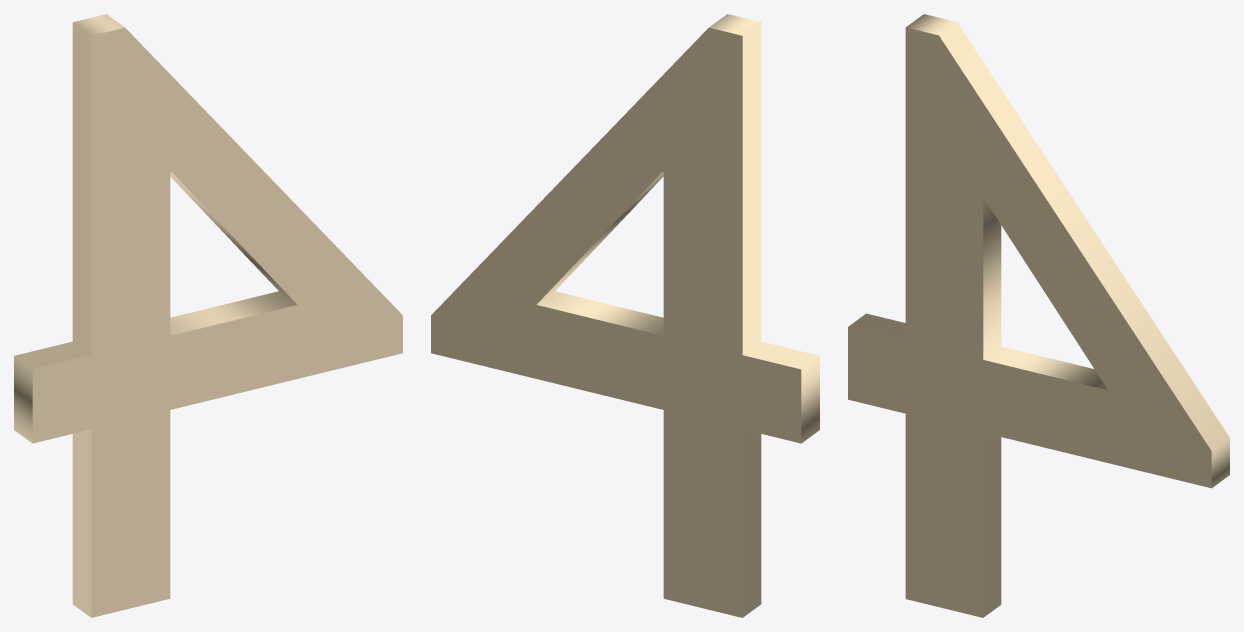
3 renders of one model, left to right at view 1: azimuth 30°, elevation 25°; view 2: azimuth 150°, elevation 25°; view 3: azimuth 330°, elevation 25°, orthographic.
Visible parts, largest first — view 1: テキスト; view 2: テキスト; view 3: テキスト.
Part boxes in pixels (<box>): テキスト: <box>14,14,402,617</box>; テキスト: <box>431,14,819,617</box>; テキスト: <box>848,14,1229,617</box>.
Bounding box in the file's own units: 0.46 × 0.691 × 0.04.
